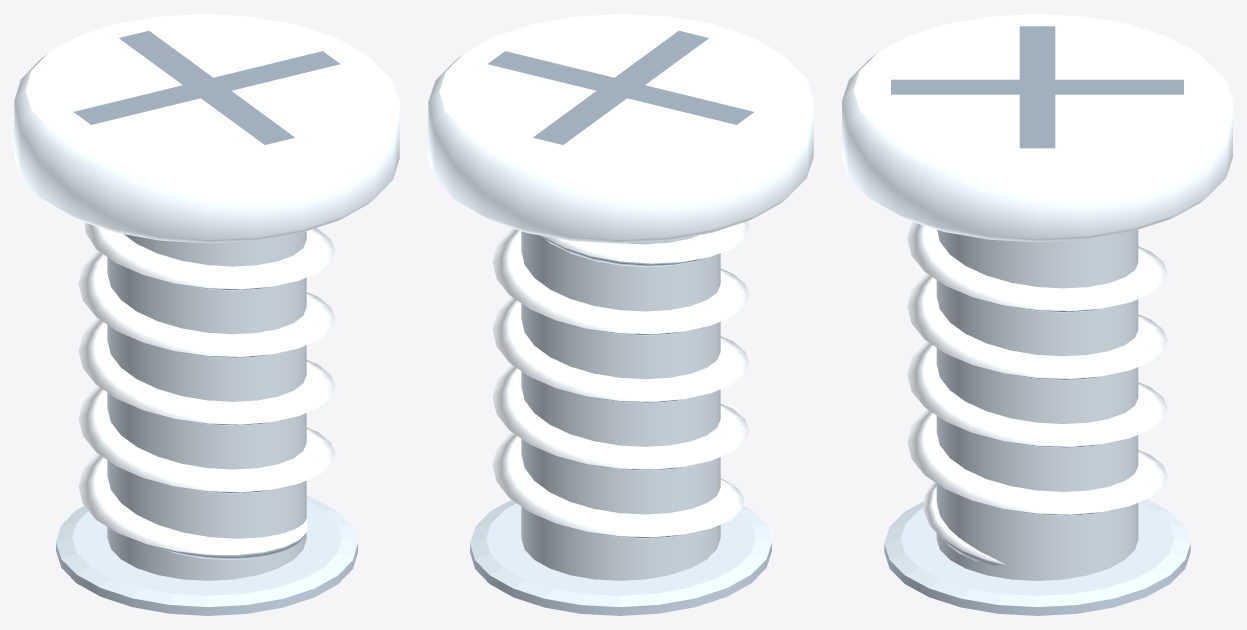
Rendered from screw-tower.glb.
3 views of the same model, side by side, from view 1: azimuth 30°, elevation 25°; view 2: azimuth 150°, elevation 25°; view 3: azimuth 270°, elevation 25° (orthographic).
Visible parts, largest first — view 1: screw-tower; view 2: screw-tower; view 3: screw-tower.
Part boxes in pixels (x1,y1,x2,y2): screw-tower: (14, 14, 399, 615); screw-tower: (428, 14, 813, 615); screw-tower: (842, 14, 1232, 615).
Bounding box in the file's own units: 23.64 × 31.5 × 24.
